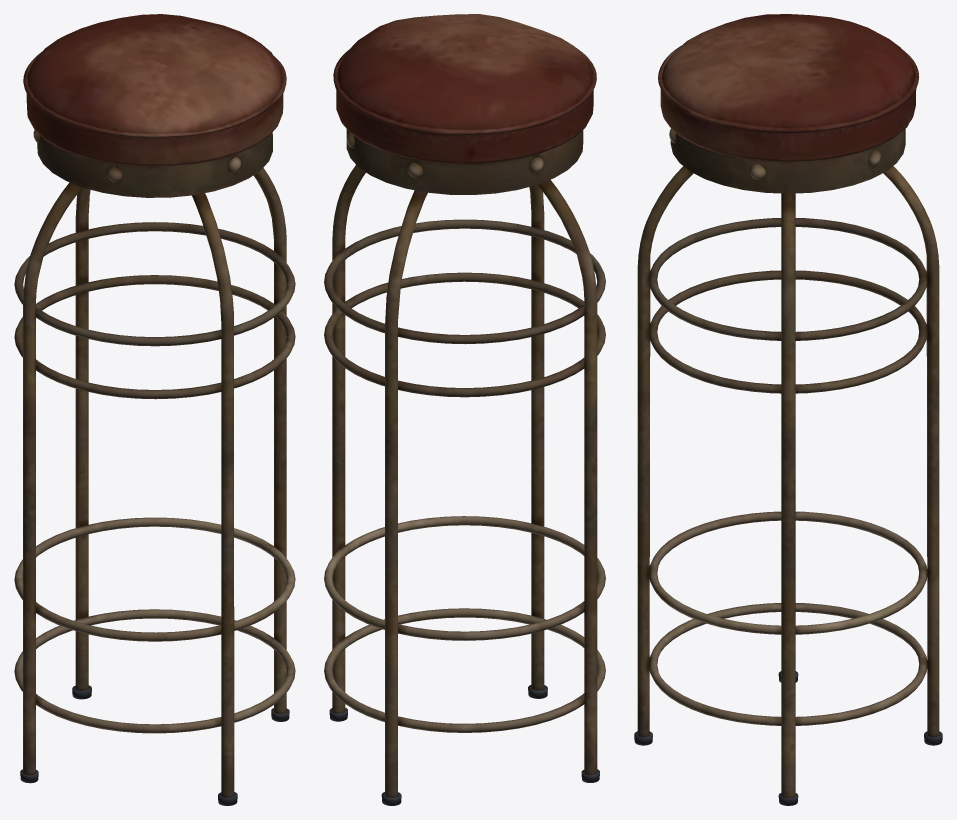
The model's file is metal_stool_01.glb.
3 views of the same model, side by side, from view 1: azimuth 30°, elevation 25°; view 2: azimuth 150°, elevation 25°; view 3: azimuth 270°, elevation 25° (orthographic).
Parts seen in each view (by area): view 1: metal_stool_01; view 2: metal_stool_01; view 3: metal_stool_01.
Part boxes in pixels (x1,y1,x2,y2): metal_stool_01: (14, 14, 295, 805); metal_stool_01: (324, 14, 605, 805); metal_stool_01: (634, 14, 942, 805).
Size of the model in its own units: 0.352 by 0.8824 by 0.3546.
Materials: 1 (1 with a texture image).
